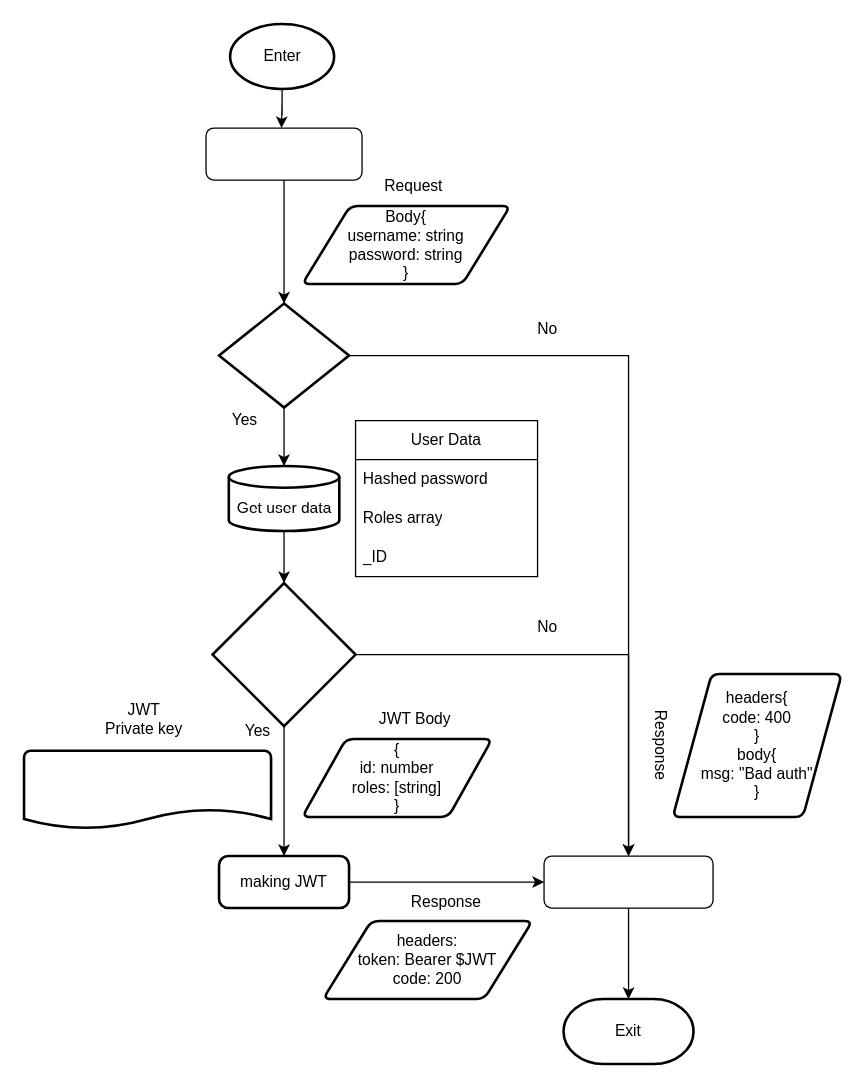
The diagram is 864 pixels wide and 1087 high, and some of its shapes have lost their labels. Here are the shapes that lost their labels. From the top down, the box of each, then its label:
(205, 127, 362, 180): POST --> auth/signin
(217, 302, 350, 408): username validation
(211, 581, 356, 727): compare req.pwd and HashPWD
(22, 749, 272, 829): secret/secretController.KeyJWT
(543, 855, 713, 908): POST <-- auth/signin
